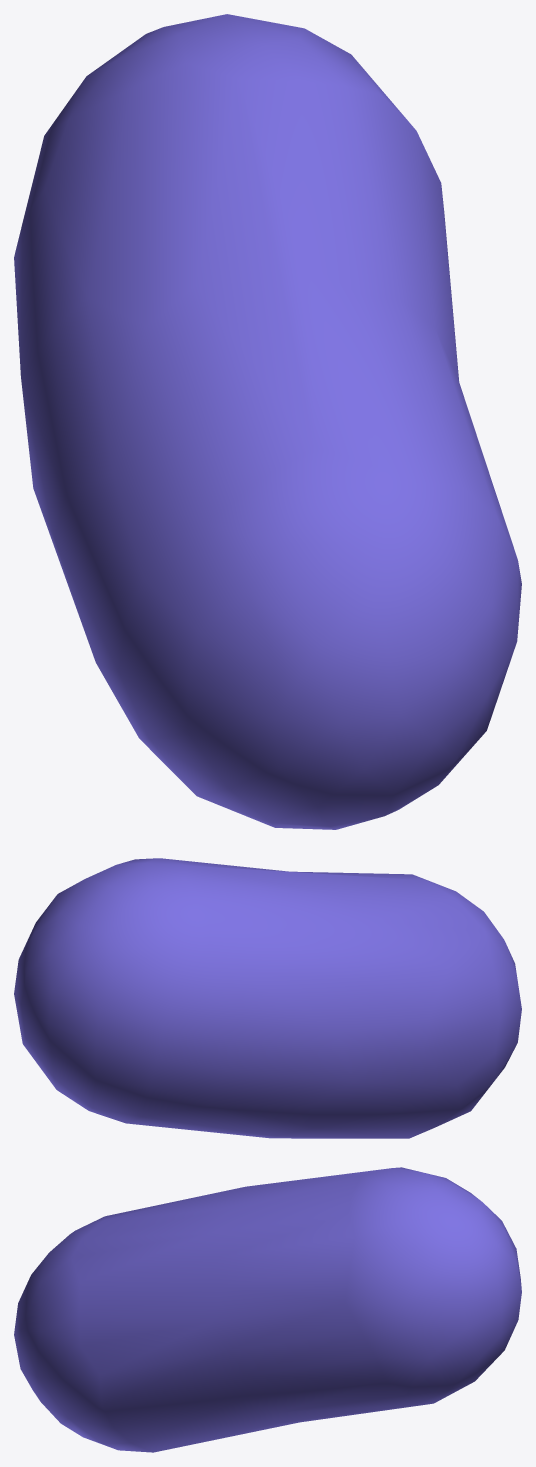
File: Mitokondri2.fbx
The picture shows the model from 3 angles, top to bottom: view 1: azimuth 30°, elevation 25°; view 2: azimuth 150°, elevation 25°; view 3: azimuth 270°, elevation 25°; orthographic projection. The views are drawn at different scales.
Parts seen in each view (by area): view 1: Sphere.2018; view 2: Sphere.2018; view 3: Sphere.2018.
Part boxes in pixels (bbox=[...]): Sphere.2018: bbox=[14, 14, 521, 829]; Sphere.2018: bbox=[14, 858, 521, 1138]; Sphere.2018: bbox=[14, 1167, 521, 1452].
Size of the model in its own units: 48.82 by 49.34 by 74.91.
